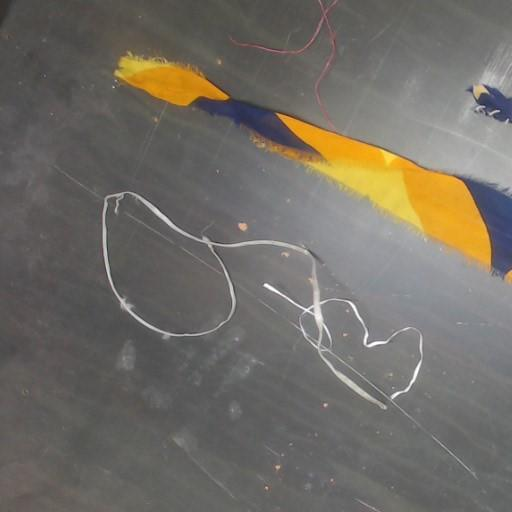cloth: (116, 55, 511, 282), (468, 83, 511, 123)
conveyor belt: (322, 0, 511, 196), (108, 198, 229, 331)
thread: (101, 191, 423, 408), (230, 0, 338, 127)
